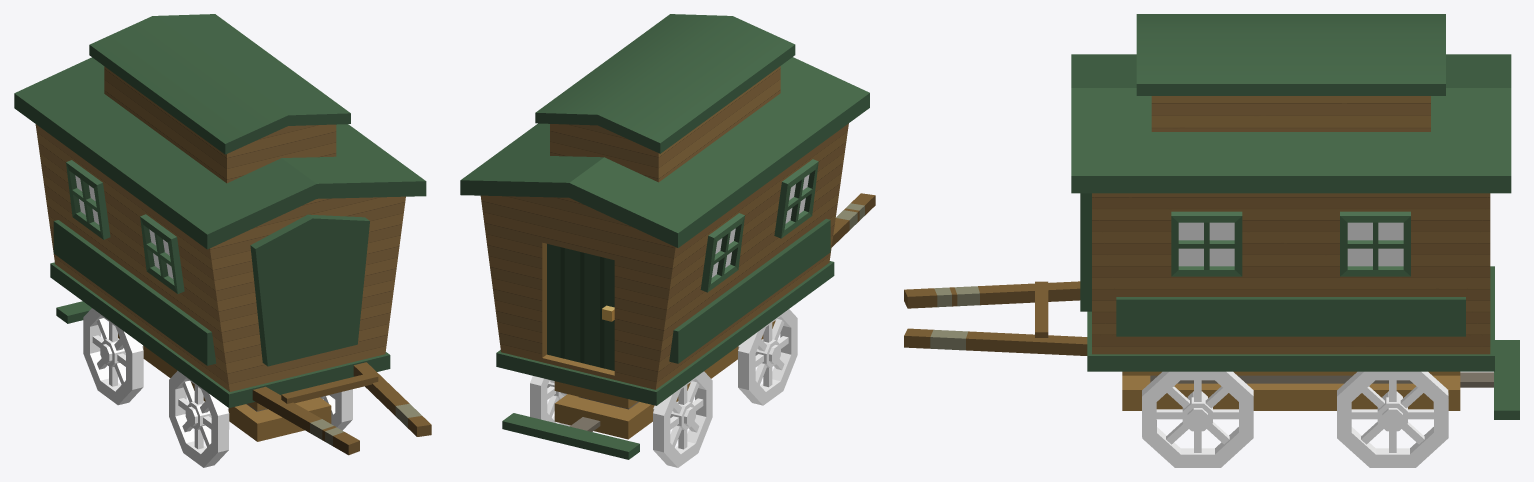
The model's file is HouseWagon.gltf.
3 views of the same model, side by side, from view 1: azimuth 30°, elevation 25°; view 2: azimuth 150°, elevation 25°; view 3: azimuth 270°, elevation 25° (orthographic). The views are drawn at different scales.
Visible parts, largest first — view 1: SF_Veh_HouseWagon_01, SF_Veh_HouseWheel_Front, SF_Veh_HouseWheel_Back; view 2: SF_Veh_HouseWagon_01, SF_Veh_HouseWheel_Back, SF_Veh_HouseWheel_Front; view 3: SF_Veh_HouseWagon_01, SF_Veh_HouseWheel_Back, SF_Veh_HouseWheel_Front.
Boxes of the visible parts, bbox=[...] form: SF_Veh_HouseWagon_01: bbox=[14, 14, 431, 455]; SF_Veh_HouseWheel_Front: bbox=[169, 370, 352, 467]; SF_Veh_HouseWheel_Back: bbox=[83, 308, 143, 405]; SF_Veh_HouseWagon_01: bbox=[460, 14, 875, 459]; SF_Veh_HouseWheel_Back: bbox=[530, 371, 712, 467]; SF_Veh_HouseWheel_Front: bbox=[738, 309, 797, 405]; SF_Veh_HouseWagon_01: bbox=[904, 14, 1519, 419]; SF_Veh_HouseWheel_Back: bbox=[1337, 371, 1448, 467]; SF_Veh_HouseWheel_Front: bbox=[1142, 371, 1253, 467].
Bounding box in the file's own units: 0.0405 × 0.0617 × 0.0867.
2 materials, 1 textured.
